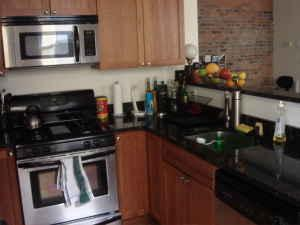Electrodomestico: (15, 126, 120, 223)
Lavaplatos: (182, 124, 268, 157)
